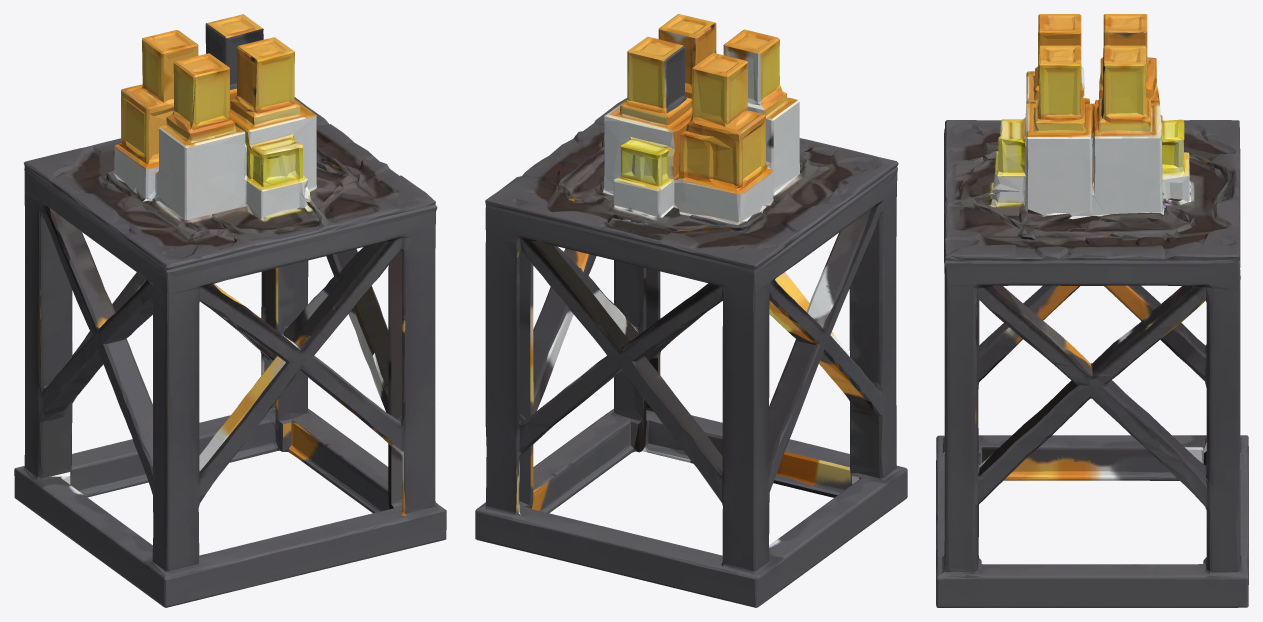
File: gantry.glb
3 views of the same model, side by side, from view 1: azimuth 30°, elevation 25°; view 2: azimuth 150°, elevation 25°; view 3: azimuth 270°, elevation 25° (orthographic). The views are drawn at different scales.
Visible parts, largest first — view 1: tmp7tkqbc2_.ply; view 2: tmp7tkqbc2_.ply; view 3: tmp7tkqbc2_.ply.
Part boxes in pixels (x1=…): tmp7tkqbc2_.ply: x1=14, y1=14, x2=446, y2=607; tmp7tkqbc2_.ply: x1=475, y1=14, x2=907, y2=607; tmp7tkqbc2_.ply: x1=936, y1=14, x2=1248, y2=607.
Size of the model in its own units: 0.6191 by 1 by 0.5751.
Materials: 1 (1 with a texture image).
